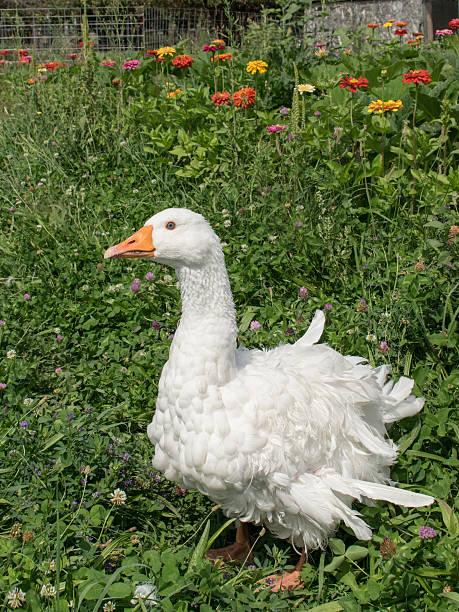goose: (103, 204, 415, 559)
